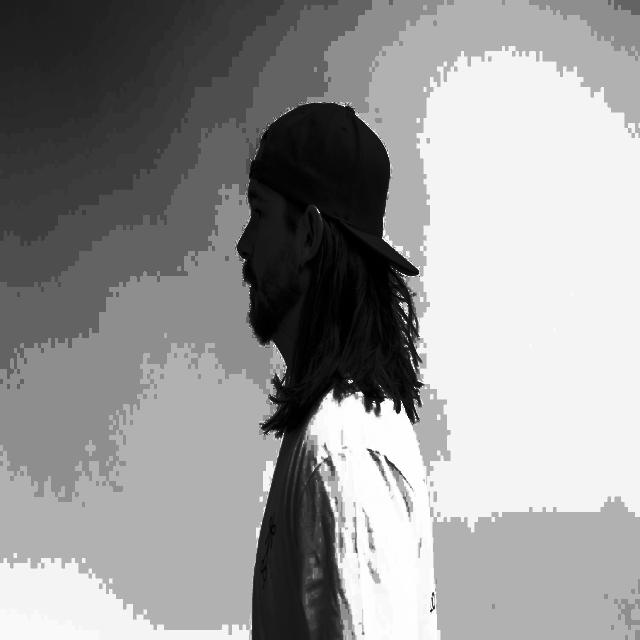TOPI: (242, 97, 421, 288)
